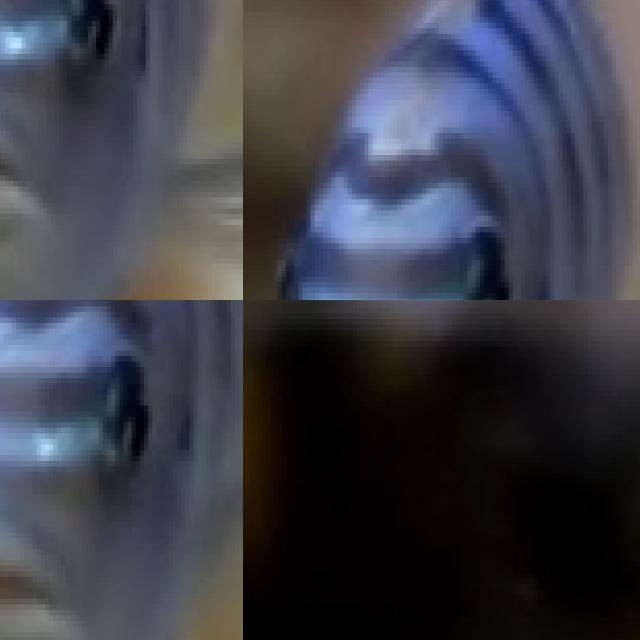fish: (243, 0, 640, 300), (0, 0, 243, 300)
